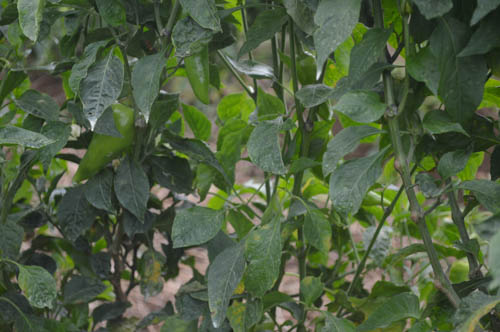ChiliPepper: (79, 104, 137, 180), (180, 47, 212, 101)
